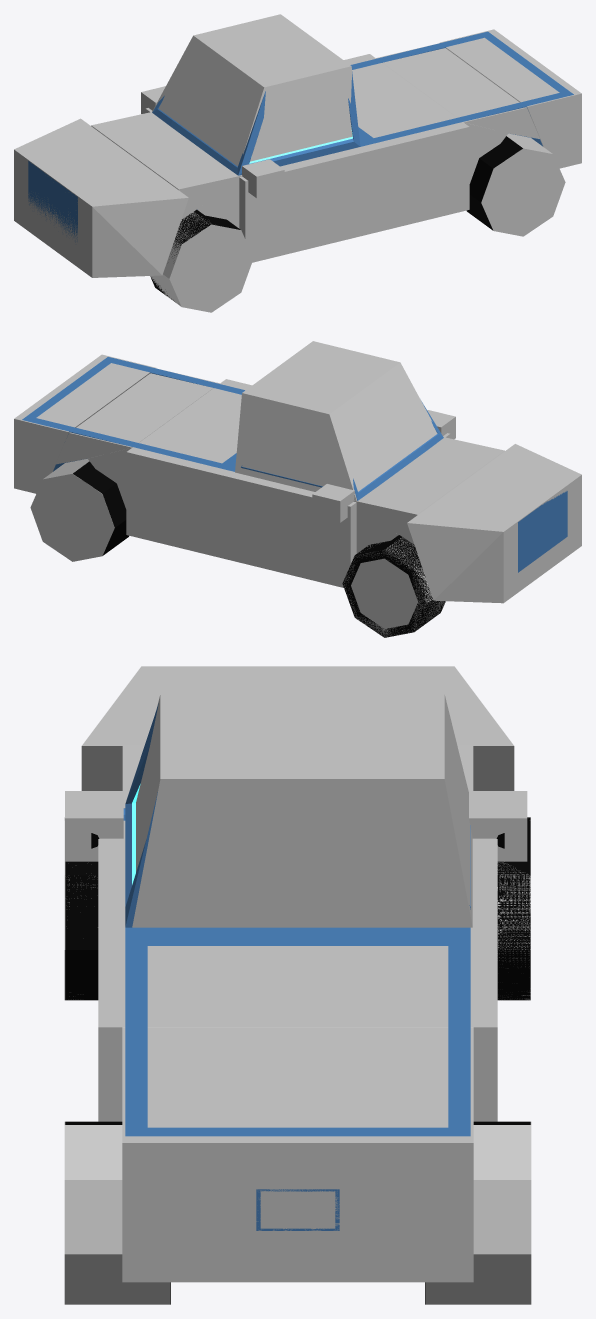
File: SM_Car_08.fbx
3 views of the same model, one above another, from view 1: azimuth 30°, elevation 25°; view 2: azimuth 150°, elevation 25°; view 3: azimuth 270°, elevation 25° (orthographic). The views are drawn at different scales.
Parts seen in each view (by area): view 1: SM_Car_08_ConvexHulls, SM_Car_08; view 2: SM_Car_08_ConvexHulls, SM_Car_08; view 3: SM_Car_08_ConvexHulls, SM_Car_08.
Part boxes in pixels (x1=…): SM_Car_08_ConvexHulls: x1=14, y1=14, x2=581, y2=312; SM_Car_08: x1=28, y1=31, x2=573, y2=301; SM_Car_08_ConvexHulls: x1=14, y1=341, x2=581, y2=637; SM_Car_08: x1=22, y1=357, x2=567, y2=637; SM_Car_08_ConvexHulls: x1=64, y1=666, x2=531, y2=1304; SM_Car_08: x1=65, y1=703, x2=530, y2=1304.
Size of the model in its own units: 517 by 215 by 193.
